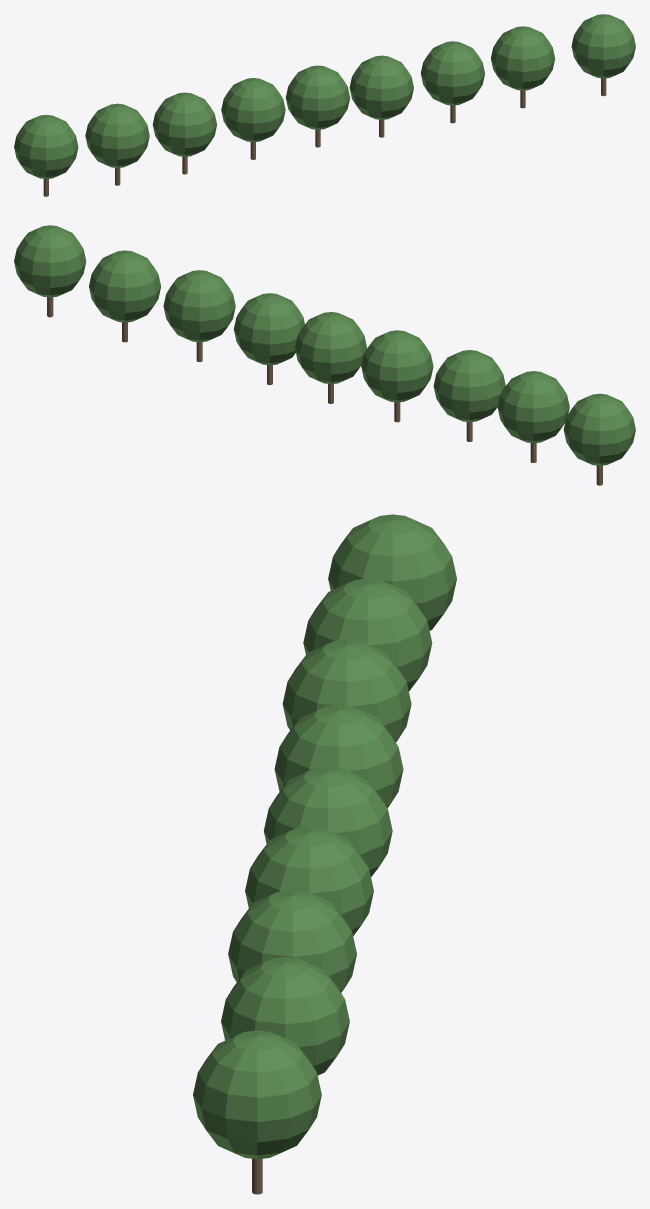
File: trees-664-12978-52c83968d4ee.glb
The picture shows the model from 3 angles, top to bottom: view 1: azimuth 30°, elevation 25°; view 2: azimuth 150°, elevation 25°; view 3: azimuth 270°, elevation 25°; orthographic projection. The views are drawn at different scales.
Bounding box in the file's own units: 125 × 16.5 × 24.57.
